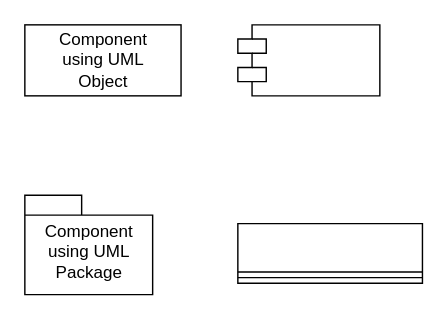
Image size: 447x320. Some labels were removed from this diagram. The shapes that lost their labels are listed below. From the top down, each one's centre as x and y in pixels, then its label:
the point at 308,59: Component using UML Module
the point at 329,252: Comonents using UML Classes
